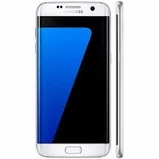samsung: (35, 1, 111, 155)
